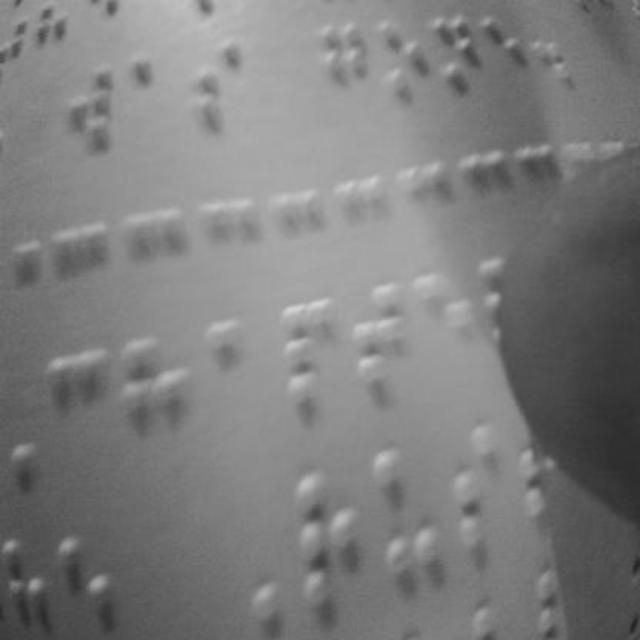braiile: (368, 429, 438, 576), (447, 414, 517, 558), (289, 469, 361, 607), (120, 331, 190, 472), (42, 339, 114, 475), (278, 286, 346, 418), (416, 264, 480, 400), (348, 270, 414, 398), (206, 309, 266, 436), (59, 45, 119, 157), (188, 23, 244, 141), (374, 16, 430, 114), (126, 44, 174, 150), (318, 17, 367, 117), (432, 9, 478, 110)
